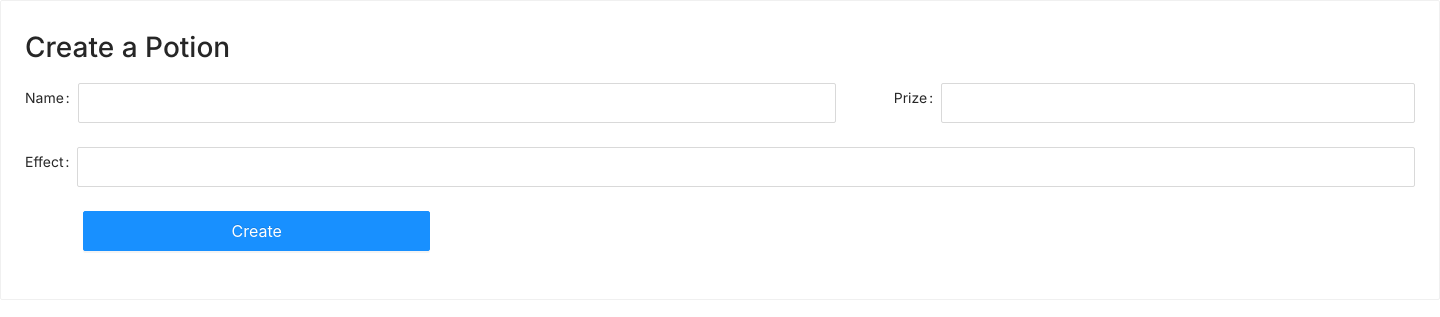
Test: when user fill in all fields and click send › and there are errors › should show an error message
Type "My awesome potion" into the field labelled "Name". click: point(457, 103)
box: [78, 83, 836, 123]
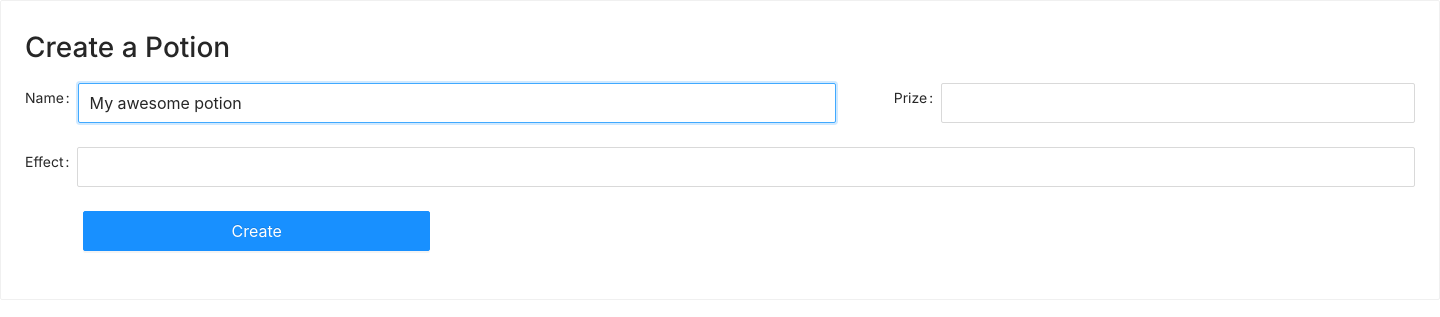
Type "1" into the number field labelled "Prize". click: point(1178, 103)
box: [941, 83, 1415, 123]
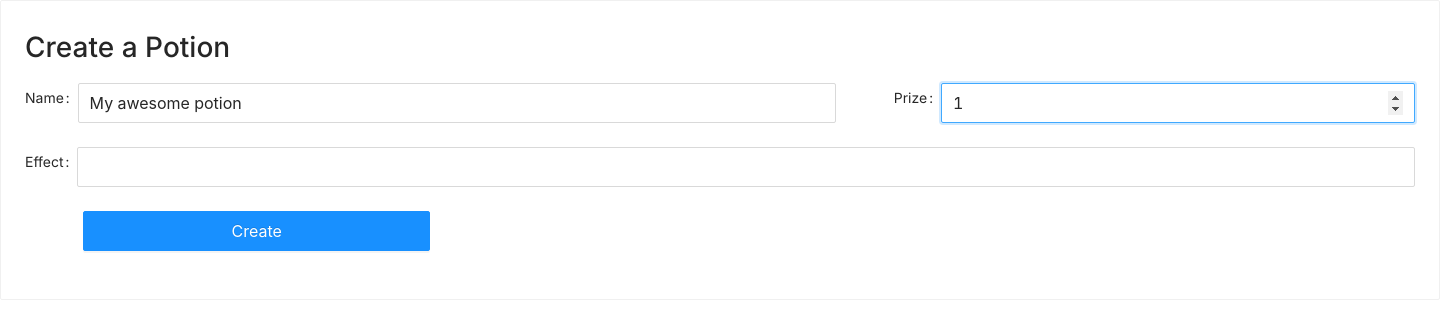
Type "Crazy effect" into the field labelled "Effect". click: point(746, 167)
box: [77, 147, 1415, 187]
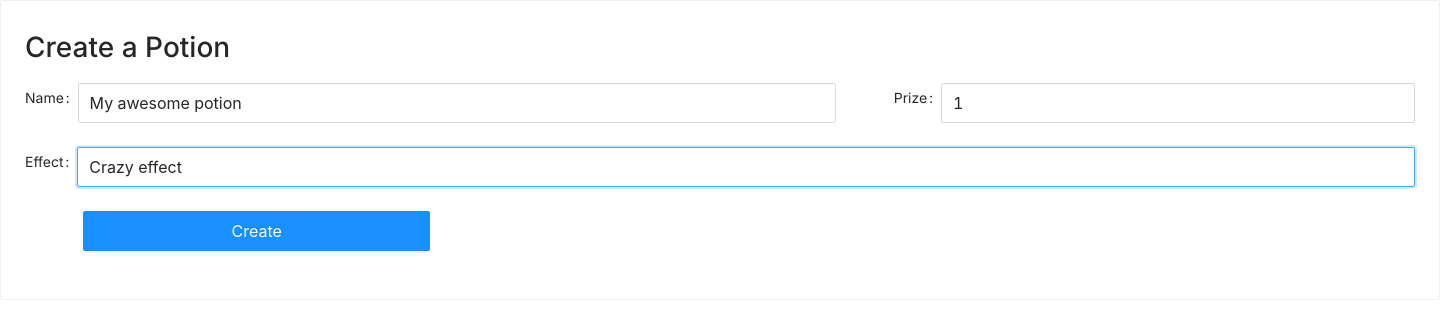
Click the button "Create". click: point(257, 231)
box: [83, 211, 430, 251]
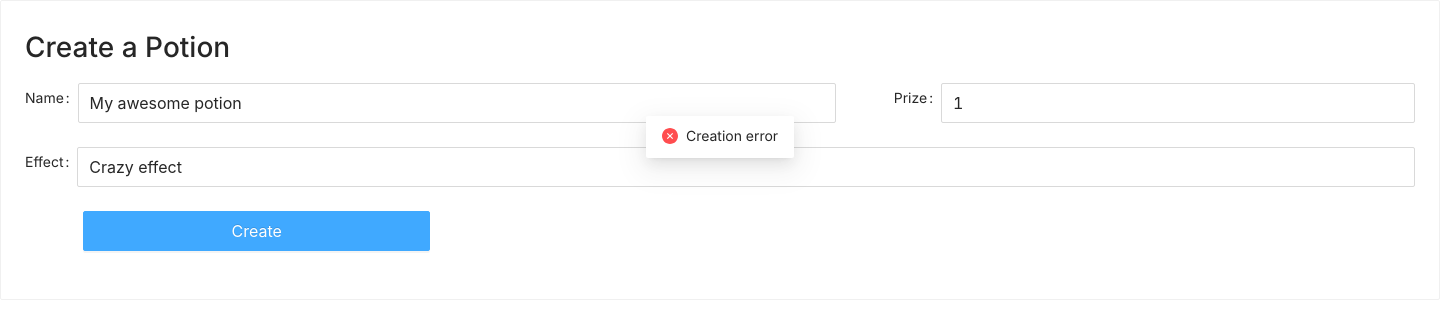
Check: the text "Creation error" is shown, box [686, 128, 778, 145]
